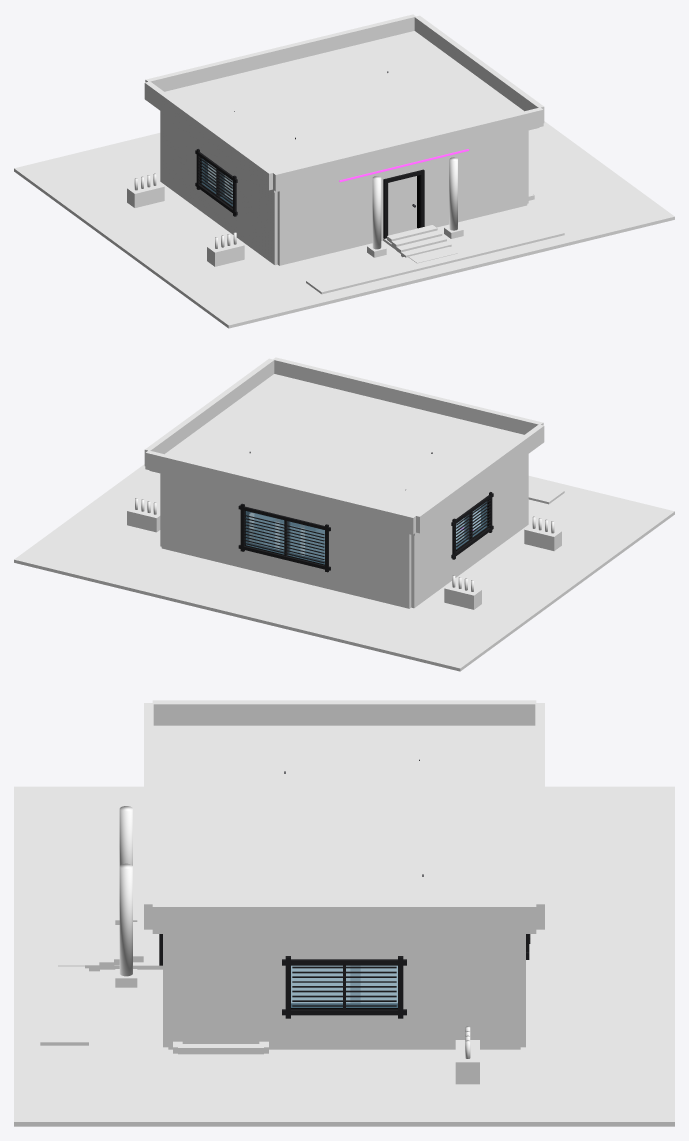
The model's file is Casa_mejor.glb.
The picture shows the model from 3 angles, top to bottom: view 1: azimuth 30°, elevation 25°; view 2: azimuth 150°, elevation 25°; view 3: azimuth 270°, elevation 25°; orthographic projection. The views are drawn at different scales.
Parts seen in each view (by area): view 1: TEXTURA_Terreno jardín procedural, Losa techo plano grafito texturizado, Muro frontal izquierdo ajustado a puerta, Muro frontal derecho ajustado a puerta, Parapeto frontal, Parapeto posterior, Banqueta de mármol exterior, Parapeto lateral izquierdo, Muro lateral izquierdo bajo ventana exacto, Parapeto lateral derecho, Muro lateral izquierdo sobre ventana exacto, Puerta principal sin espacios panel madera dentro del muro (+7 smaller); view 2: TEXTURA_Terreno jardín procedural, Losa techo plano grafito texturizado, Parapeto posterior, Muro posterior bajo ventanal exacto, Parapeto frontal, Muro posterior sobre ventanal exacto, Muro posterior lateral izquierdo exacto, Muro posterior lateral derecho exacto, Parapeto lateral izquierdo, Muro lateral izquierdo bajo ventana exacto, Parapeto lateral derecho, Ventanal posterior sin espacios cristal embebido en muro (+8 smaller); view 3: TEXTURA_Terreno jardín procedural, Losa techo plano grafito texturizado, Muro lateral derecho bajo ventana exacto, Parapeto lateral derecho, Parapeto lateral izquierdo, Muro lateral derecho sobre ventana exacto, Banqueta de mármol exterior, Muro lateral derecho tramo frontal exacto, Muro lateral derecho tramo posterior exacto, Ventana lateral derecha sin espacios cristal embebido en mur, Piso interior madera nogal, Parapeto frontal (+9 smaller).
Part boxes in pixels (x1,y1,x2,y2): TEXTURA_Terreno jardín procedural: (14,121,674,328); Losa techo plano grafito texturizado: (165,31,539,192); Muro frontal izquierdo ajustado a puerta: (277,165,386,265); Muro frontal derecho ajustado a puerta: (420,131,527,227); Parapeto frontal: (273,107,543,191); Parapeto posterior: (145,14,415,91); Banqueta de mármol exterior: (306,221,564,294); Parapeto lateral izquierdo: (144,81,273,190); Muro lateral izquierdo bajo ventana exacto: (160,157,277,265); Parapeto lateral derecho: (414,15,544,122); Muro lateral izquierdo sobre ventana exacto: (160,111,277,207); Puerta principal sin espacios panel madera dentro del muro: (388,176,416,235); TEXTURA_Terreno jardín procedural: (14,464,674,671); Losa techo plano grafito texturizado: (149,374,523,535); Parapeto posterior: (145,450,415,534); Muro posterior bajo ventanal exacto: (161,527,411,608); Parapeto frontal: (273,357,543,434); Muro posterior sobre ventanal exacto: (161,474,411,547); Muro posterior lateral izquierdo exacto: (329,529,411,587); Muro posterior lateral derecho exacto: (161,488,240,545); Parapeto lateral izquierdo: (415,424,544,533); Muro lateral izquierdo bajo ventana exacto: (411,500,528,608); Parapeto lateral derecho: (144,358,274,465); Ventanal posterior sin espacios cristal embebido en muro: (245,511,324,564); TEXTURA_Terreno jardín procedural: (14,786,674,1126); Losa techo plano grafito texturizado: (152,725,536,933); Muro lateral derecho bajo ventana exacto: (168,1011,520,1049); Parapeto lateral derecho: (152,903,536,932); Parapeto lateral izquierdo: (152,700,536,725); Muro lateral derecho sobre ventana exacto: (168,934,520,961); Banqueta de mármol exterior: (40,859,88,1045); Muro lateral derecho tramo frontal exacto: (168,961,285,1011); Muro lateral derecho tramo posterior exacto: (403,961,520,1011); Ventana lateral derecha sin espacios cristal embebido en mur: (291,965,397,1007); Piso interior madera nogal: (291,966,397,1002); Parapeto frontal: (144,703,153,929).
Size of the model in its own units: 18 by 3.89 by 15.
